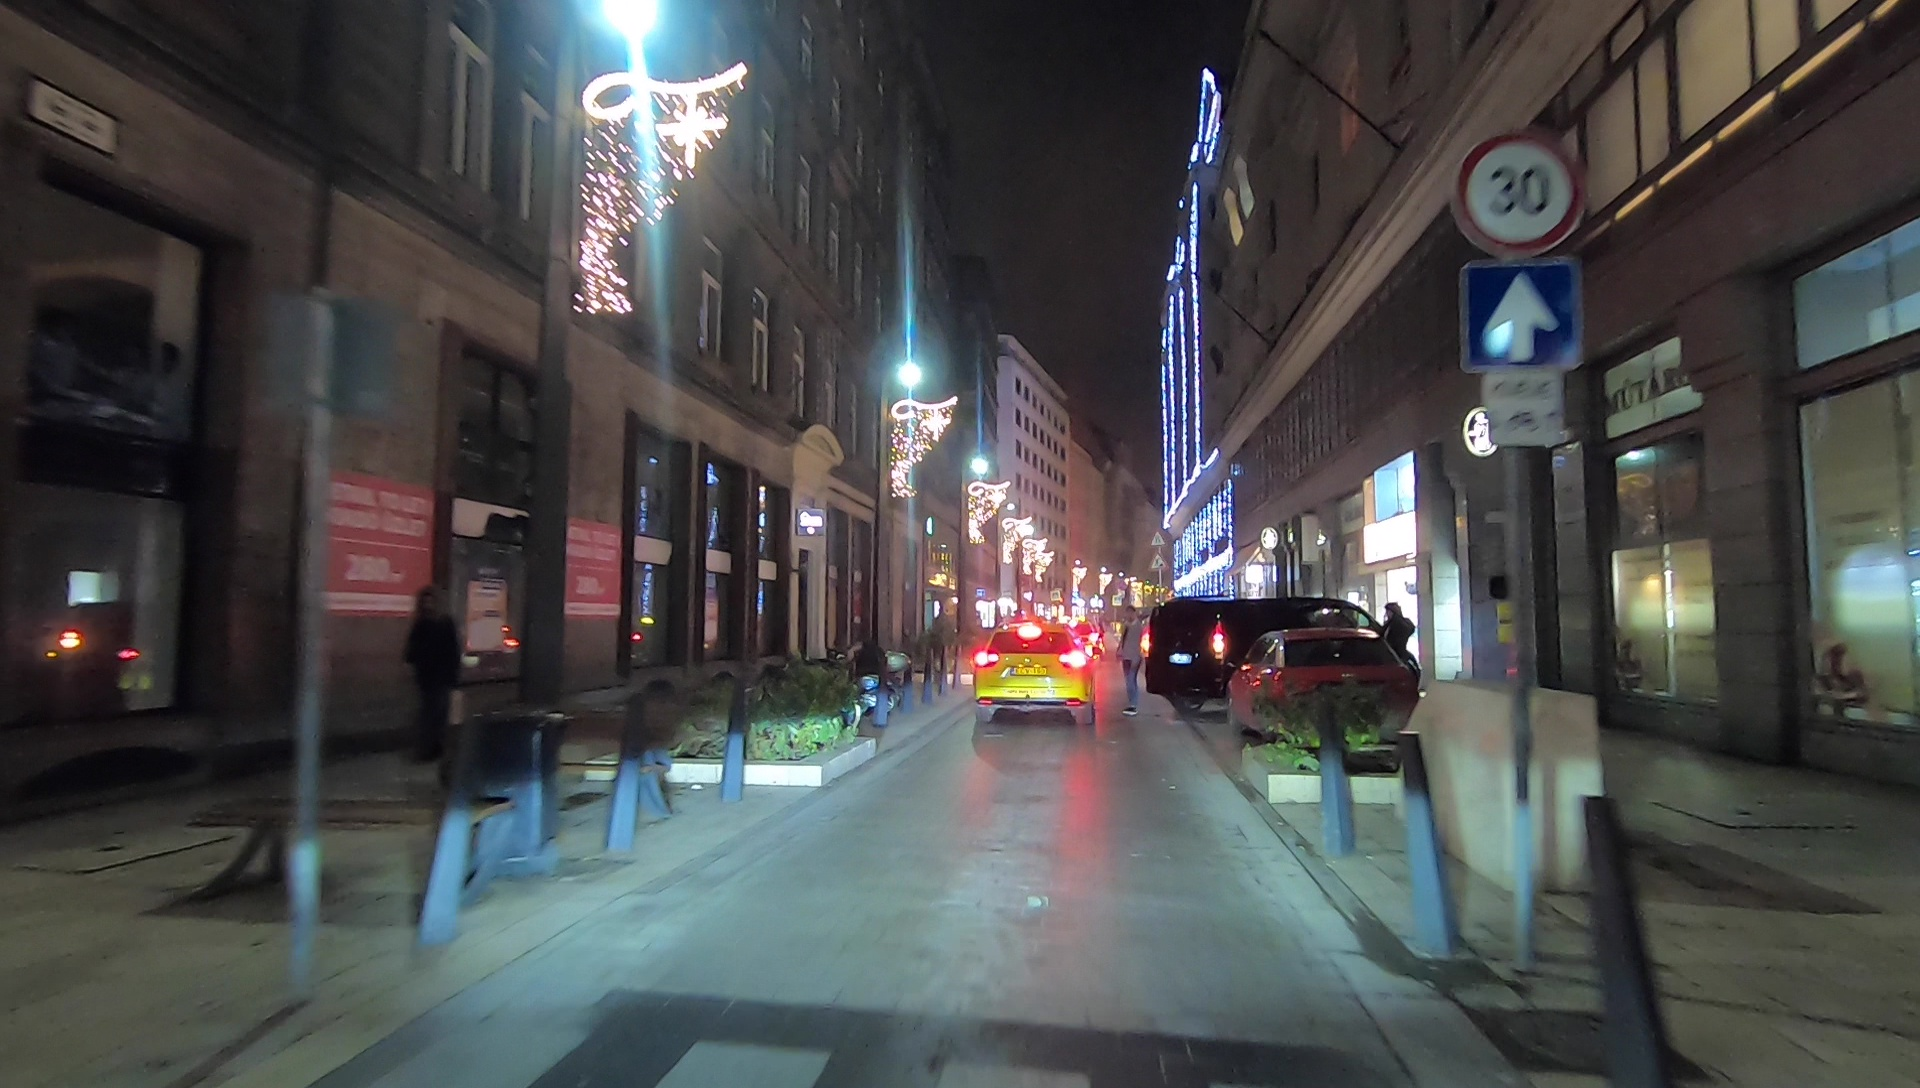person: (401, 587, 458, 761), (1381, 601, 1417, 684), (1119, 606, 1144, 714)
